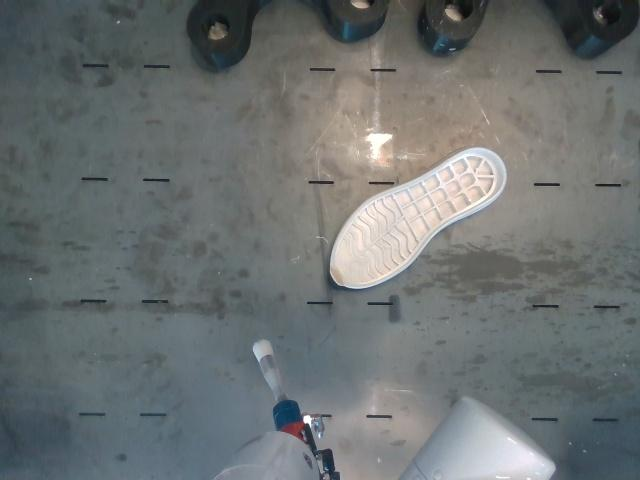shoes: (332, 148, 505, 287)
